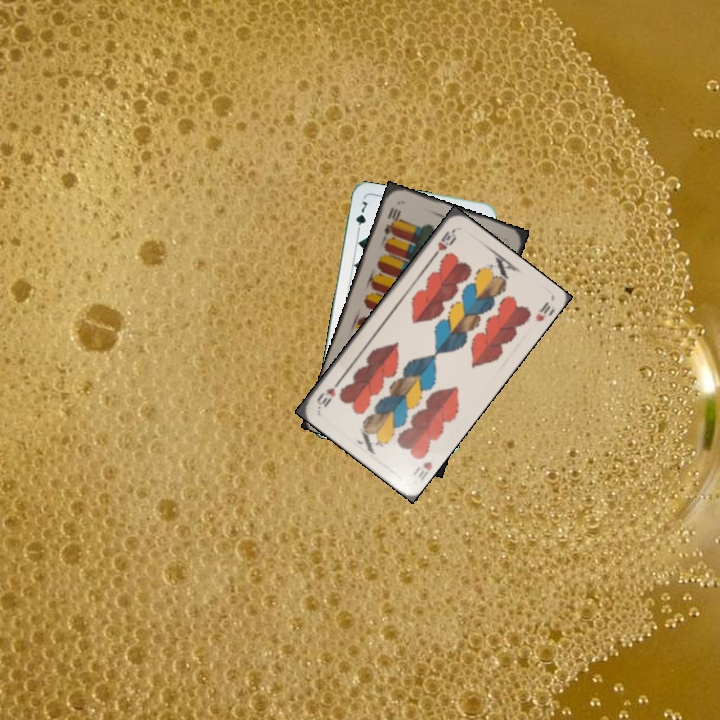E10: (380, 203, 403, 237)
G7: (352, 197, 372, 237)
H10: (429, 225, 459, 260), (409, 457, 435, 483)
